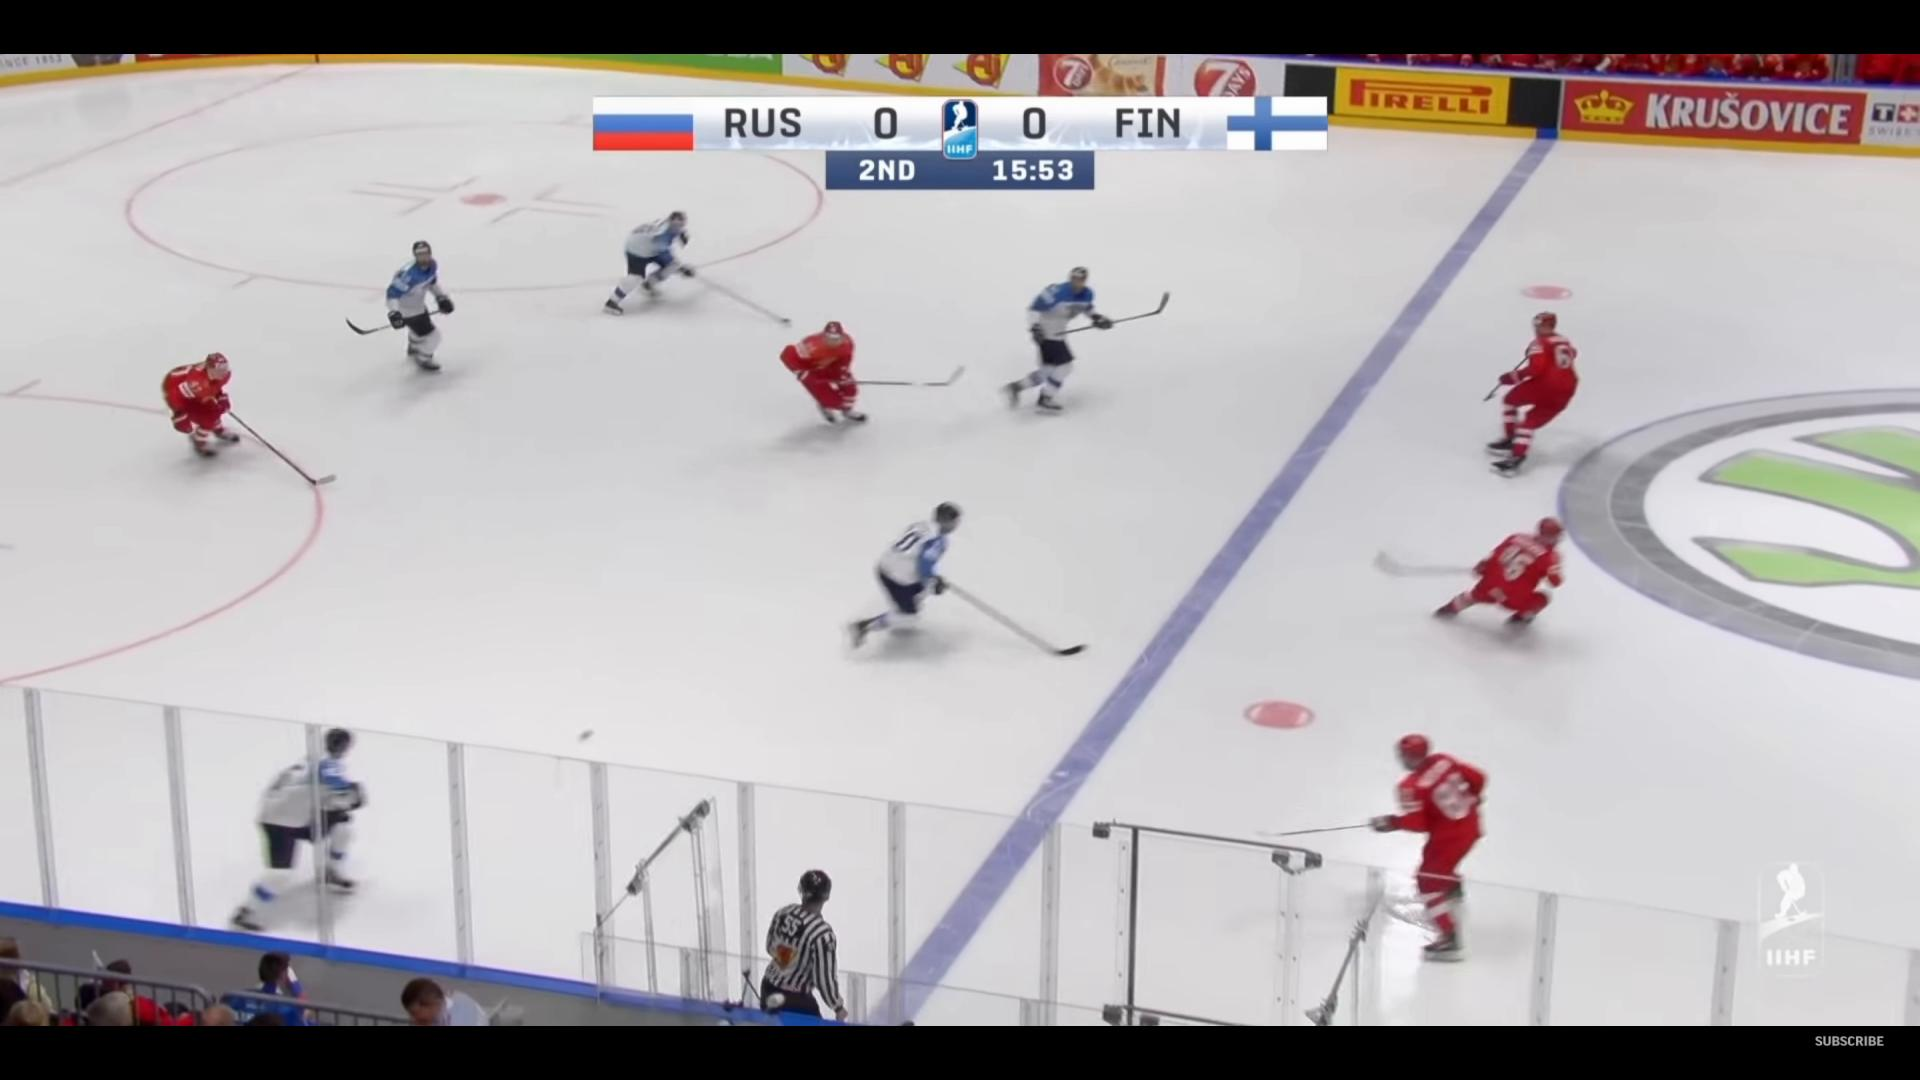puck: (577, 728, 593, 740)
